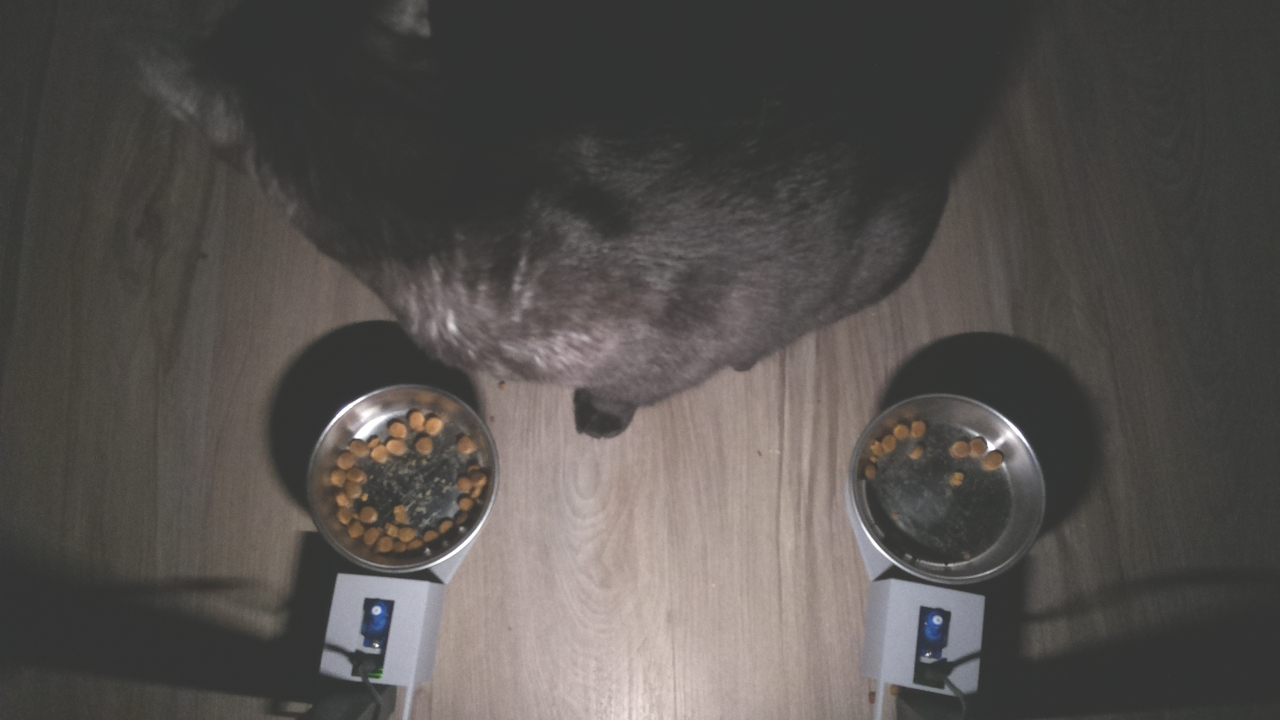open_bowl: (843, 385, 1052, 597), (289, 375, 500, 575)
saki: (105, 1, 470, 247)
